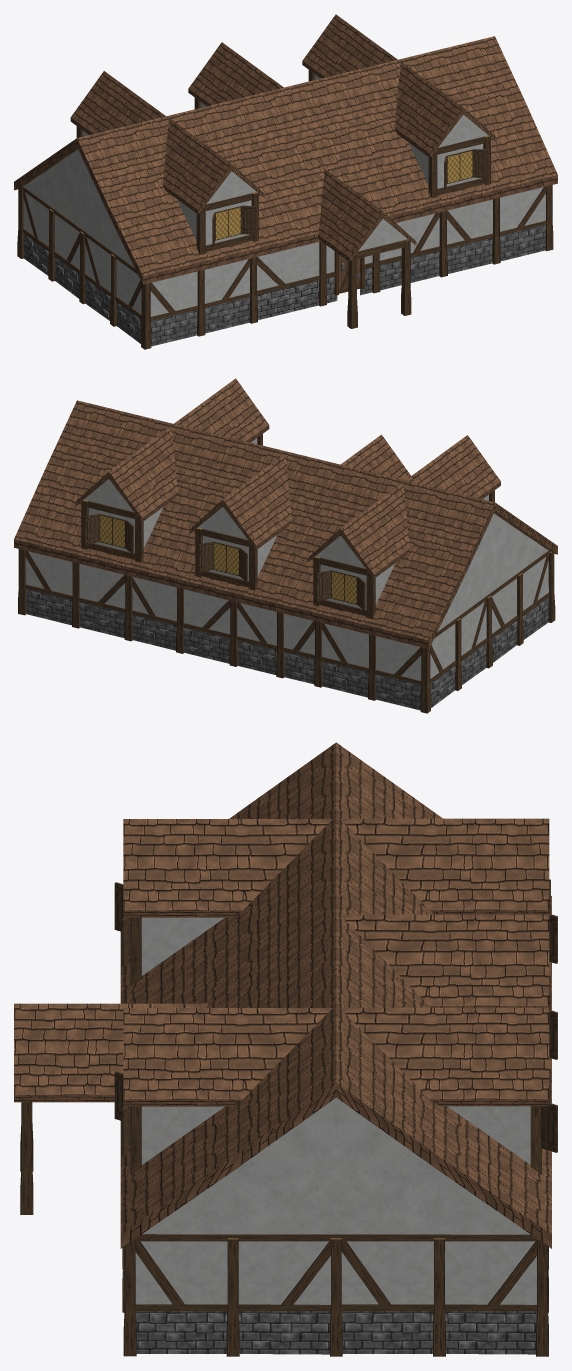
Rendered from Building_e.fbx.
3 renders of one model, top to bottom at view 1: azimuth 30°, elevation 25°; view 2: azimuth 150°, elevation 25°; view 3: azimuth 270°, elevation 25°, orthographic. The views are drawn at different scales.
Visible parts, largest first — view 1: Building_e; view 2: Building_e; view 3: Building_e.
Part boxes in pixels (x1=…): Building_e: x1=14, y1=14, x2=557, y2=349; Building_e: x1=14, y1=378, x2=557, y2=713; Building_e: x1=14, y1=742, x2=557, y2=1356.
Size of the model in its own units: 985 by 665 by 374.
